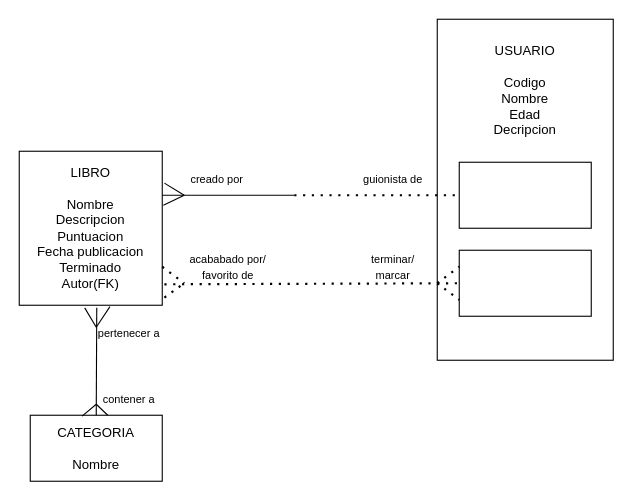
Some shapes in this 633 by 501 pixel diagram are drawn without their labels. Here are the shapes that lost their labels. From the top down, the centre of each, then its label:
At (524,194): "ESCRITOR".
At (524,282): "LECTOR".
